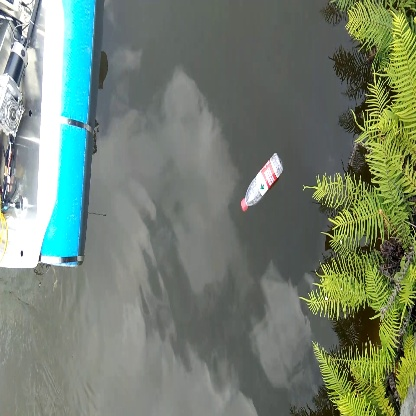bottle: (238, 150, 286, 215)
